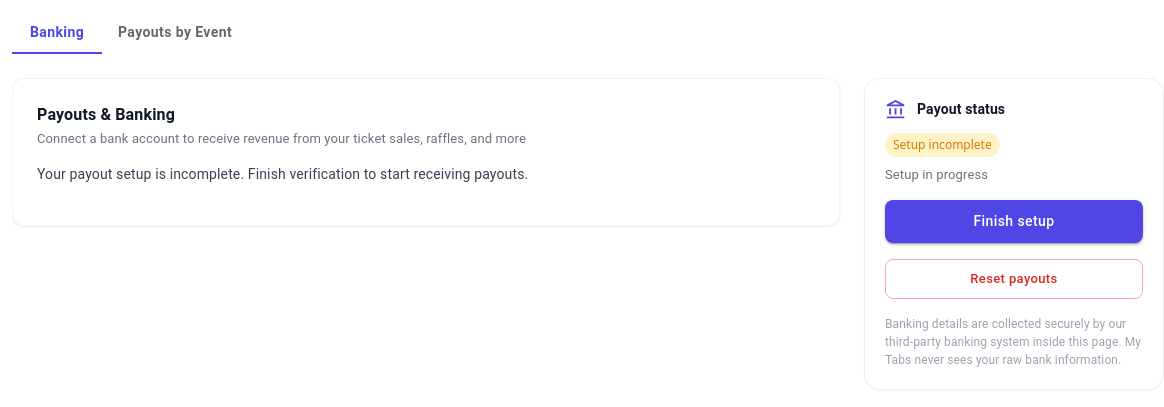
Test: PayoutsSection — embedded Payouts & Banking (Req 10) › keeps the status card visible alongside the embedded onboarding (middle = Connect only)
Click the button with test id "payout-cta-button".
click(1014, 221)  # box x1=885 y1=200 x2=1143 y2=242
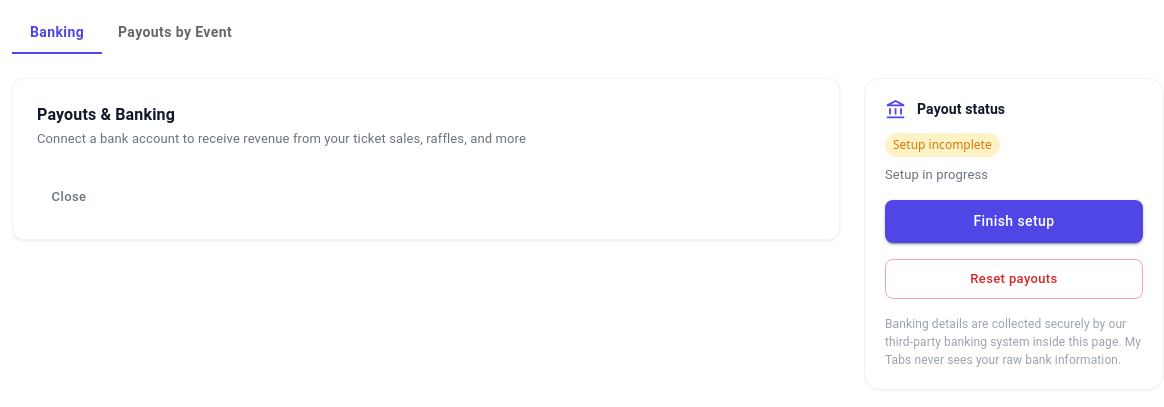
Check: the element with test id "payout-status-card" is shown, box x1=864 y1=78 x2=1163 y2=390
Check: the element with test id "payout-embedded-onboarding" is shown, box x1=37 y1=180 x2=101 y2=215
